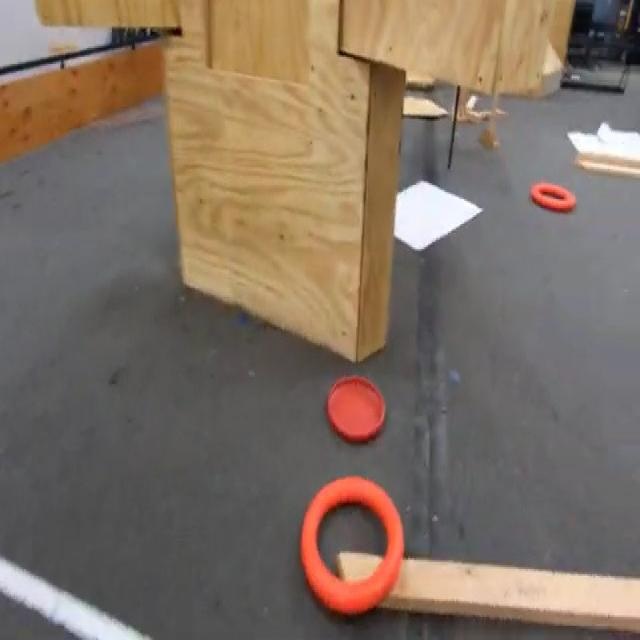note: (299, 482, 404, 616), (531, 183, 578, 214)
